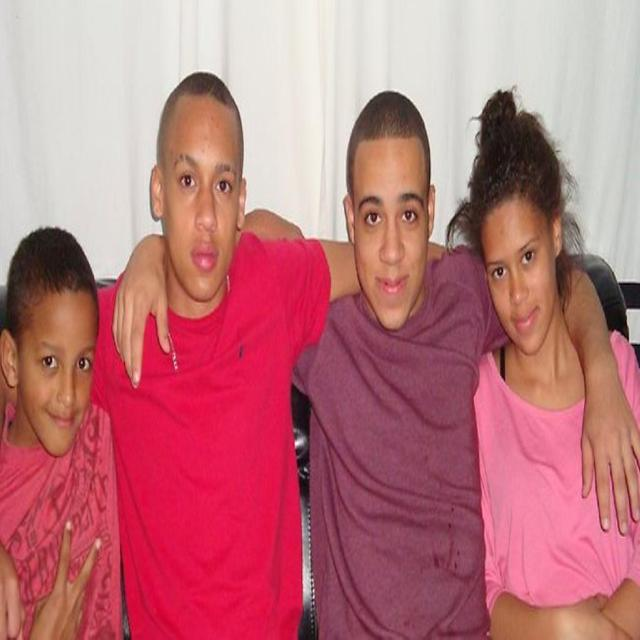Face: (344, 132, 430, 324), (169, 99, 248, 307), (28, 268, 108, 452), (474, 196, 561, 341)
